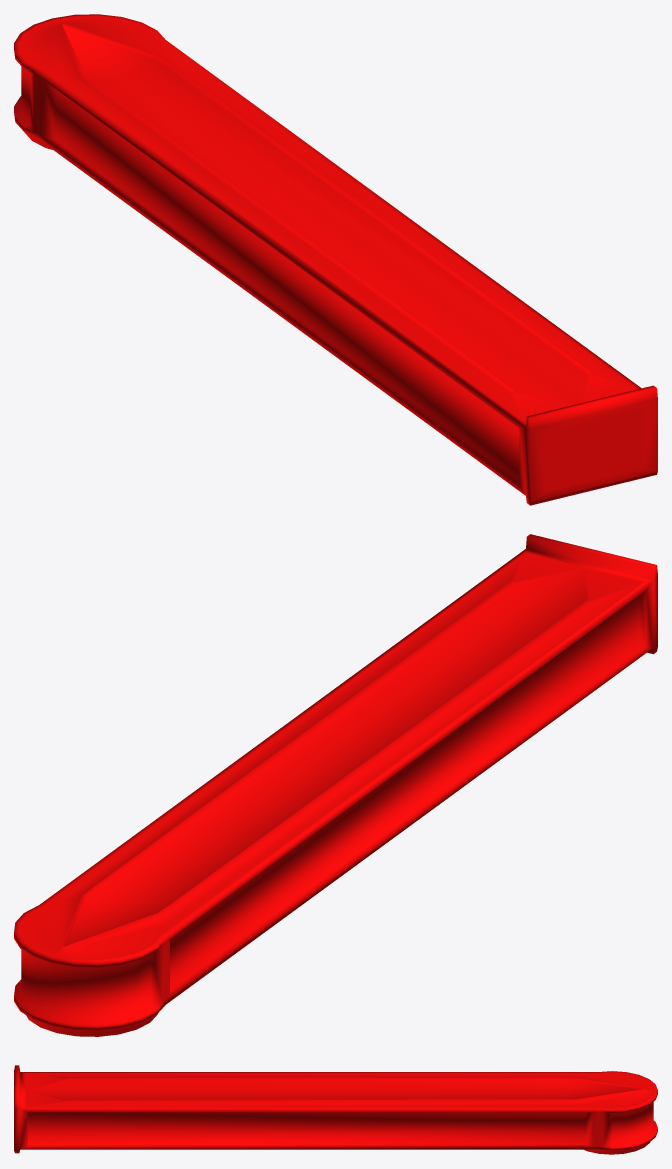
Rendered from P90_Mag.fbx.
3 views of the same model, one above another, from view 1: azimuth 30°, elevation 25°; view 2: azimuth 150°, elevation 25°; view 3: azimuth 270°, elevation 25° (orthographic). The views are drawn at different scales.
Parts seen in each view (by area): view 1: Body; view 2: Body; view 3: Body.
Part boxes in pixels (x1,y1,x2,y2): Body: (14,14,657,505); Body: (14,534,657,1036); Body: (14,1065,657,1154).
Bounding box in the file's own units: 3.73 × 2.43 × 26.33.
